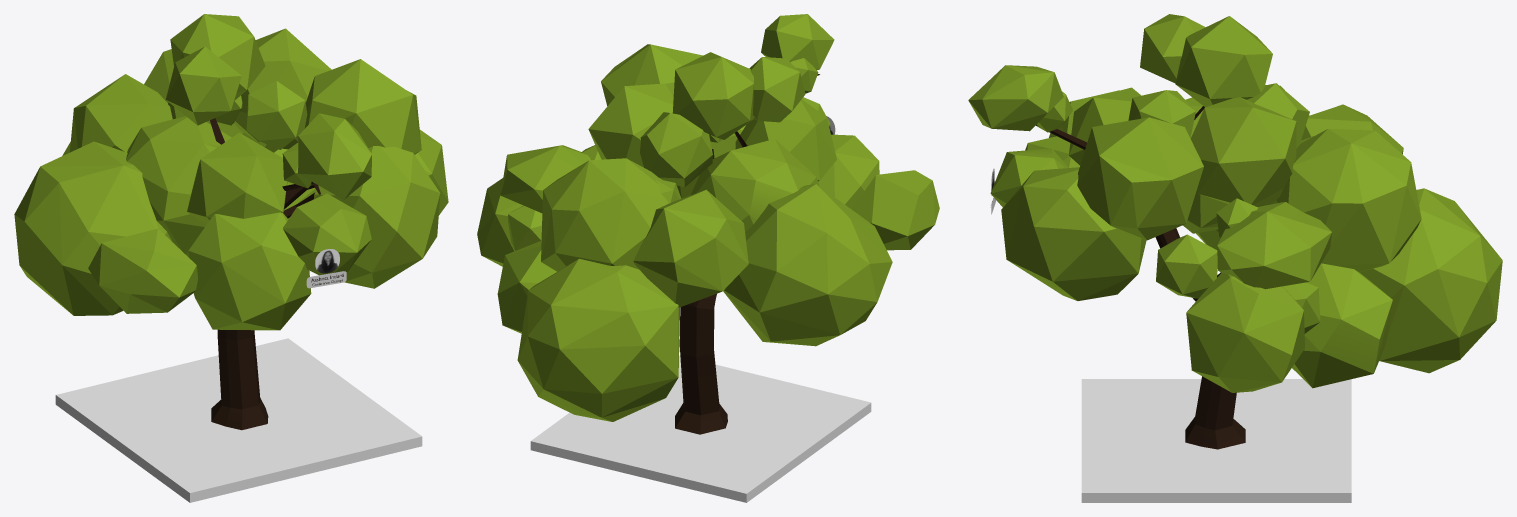
File: xdchamps-tree-3.glb
3 renders of one model, left to right at view 1: azimuth 30°, elevation 25°; view 2: azimuth 150°, elevation 25°; view 3: azimuth 270°, elevation 25°, orthographic. The views are drawn at different scales.
Parts seen in each view (by area): view 1: Cube.001; view 2: Cube.001; view 3: Cube.001.
Boxes of the visible parts, box(x1,y1,x2,y2) form: Cube.001: box(14, 14, 448, 502); Cube.001: box(477, 14, 939, 502); Cube.001: box(968, 14, 1502, 502).
Bounding box in the file's own units: 1.35 × 1.27 × 1.48.
24 materials, 1 textured.
